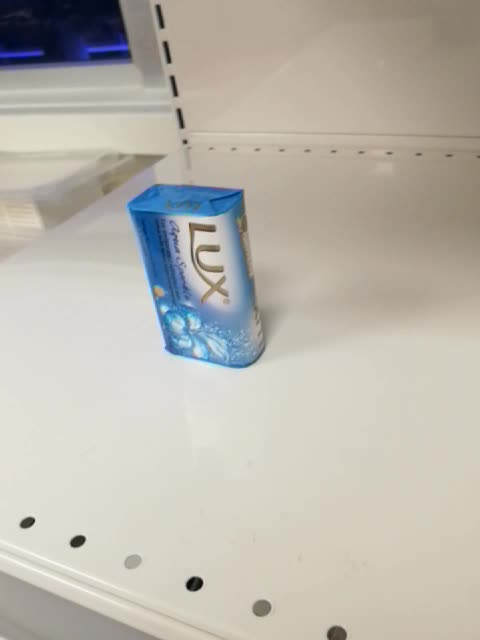soap: (125, 180, 268, 371)
